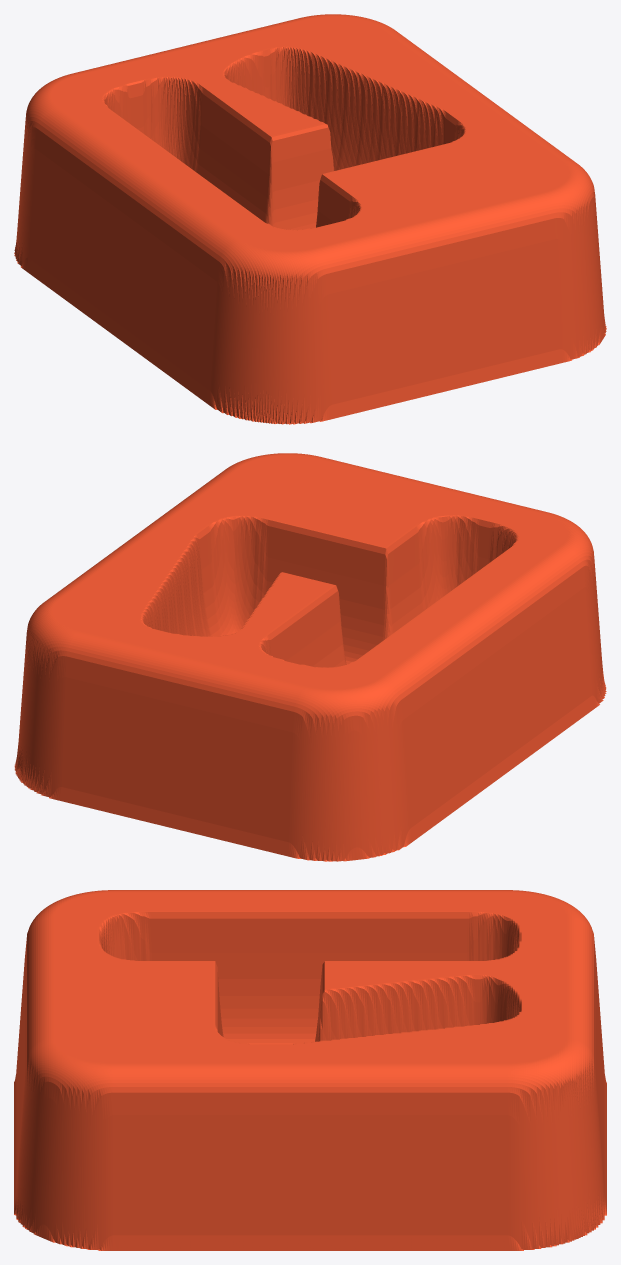
Rendered from mold.glb.
3 renders of one model, top to bottom at view 1: azimuth 30°, elevation 25°; view 2: azimuth 150°, elevation 25°; view 3: azimuth 270°, elevation 25°, orthographic. The views are drawn at different scales.
Parts seen in each view (by area): view 1: geometry_0; view 2: geometry_0; view 3: geometry_0.
Part boxes in pixels (<box>): geometry_0: <box>14,14,606,424</box>; geometry_0: <box>14,453,606,861</box>; geometry_0: <box>14,890,606,1250</box>.
Bounding box in the file's own units: 0.0442 × 0.0172 × 0.0542.
